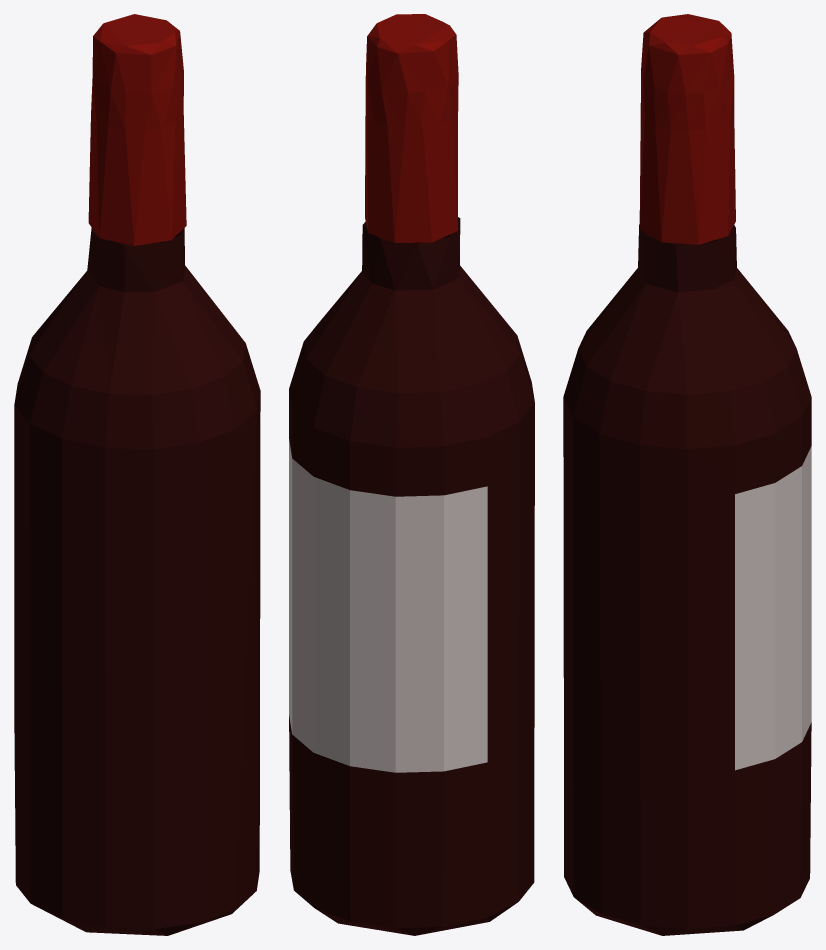
The model's file is wine.fbx.
The picture shows the model from 3 angles, left to right: view 1: azimuth 30°, elevation 25°; view 2: azimuth 150°, elevation 25°; view 3: azimuth 270°, elevation 25°; orthographic projection.
Parts seen in each view (by area): view 1: Bottle_of_Wine; view 2: Bottle_of_Wine; view 3: Bottle_of_Wine.
Boxes of the visible parts, x1,y1,x2,y2 form: Bottle_of_Wine: [14, 14, 260, 935]; Bottle_of_Wine: [289, 14, 534, 935]; Bottle_of_Wine: [563, 14, 811, 935].
Size of the model in its own units: 0.2609 by 1 by 0.2609.
